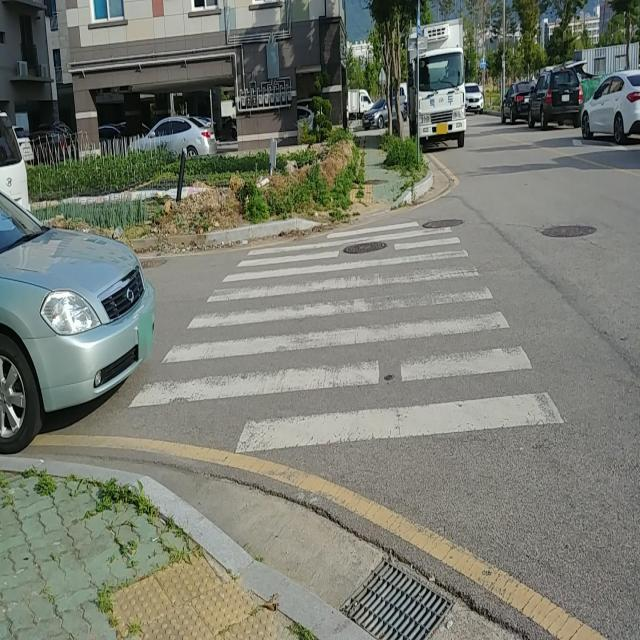횡단보도: (128, 218, 565, 454)
